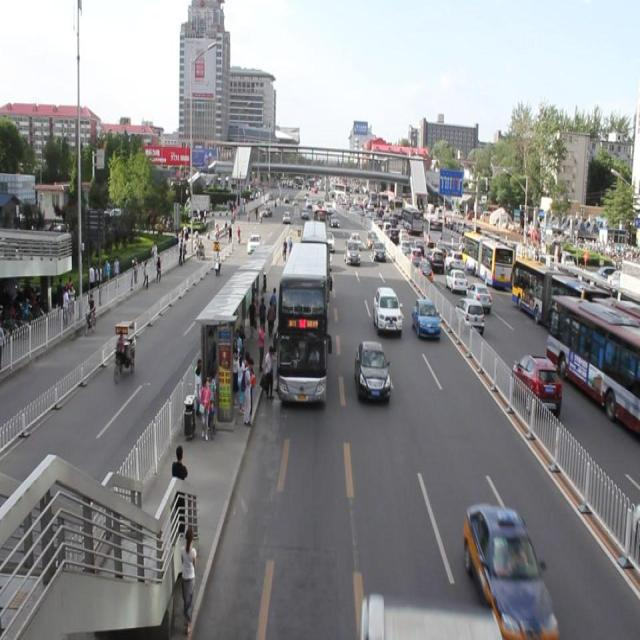car: (353, 340, 390, 402), (372, 284, 401, 336), (411, 300, 440, 338), (344, 241, 359, 264), (321, 230, 334, 252), (373, 242, 384, 262), (366, 230, 378, 248), (351, 231, 360, 251)
van: (278, 240, 325, 404), (299, 221, 330, 322)
